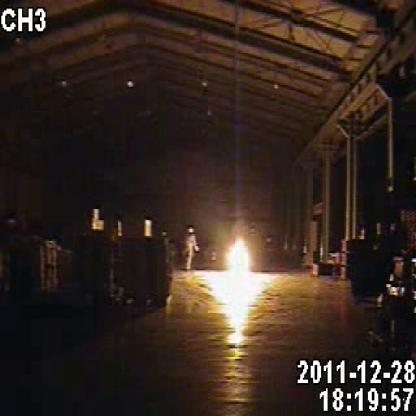fire: (191, 210, 276, 356)
